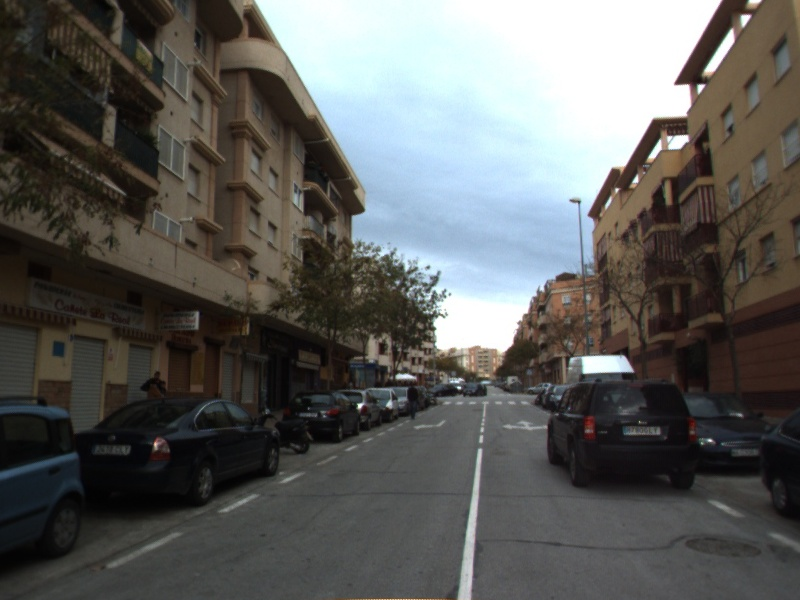STRAIGHT_LEFT_RIGHT: (501, 418, 550, 432)
